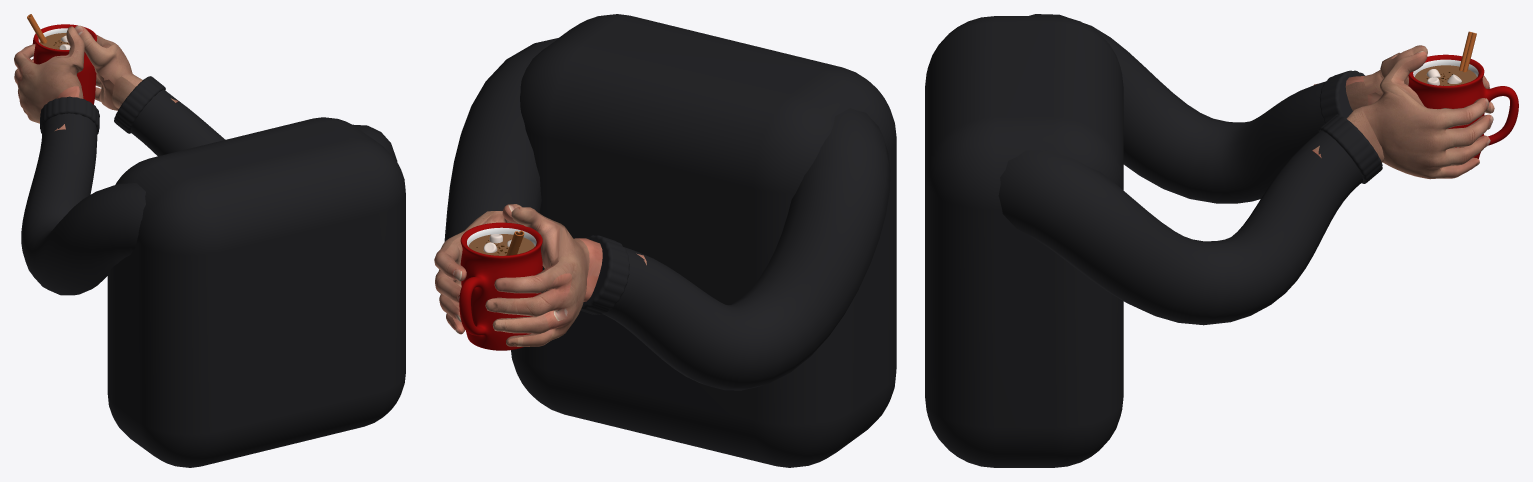
The model's file is hands.glb.
The picture shows the model from 3 angles, left to right: view 1: azimuth 30°, elevation 25°; view 2: azimuth 150°, elevation 25°; view 3: azimuth 270°, elevation 25°; orthographic projection. The views are drawn at different scales.
Parts seen in each view (by area): view 1: H_Chest, H_SleeveL, H_SleeveR, H_HandLMesh, H_HandRMesh, H_CocoaMug, H_CuffR, H_CuffL; view 2: H_Chest, H_SleeveL, H_SleeveR, H_HandLMesh, H_CocoaMug, H_HandRMesh, H_CuffL; view 3: H_Chest, H_SleeveR, H_SleeveL, H_HandRMesh, H_CocoaMug, H_CuffR, H_HandLMesh, H_CuffL.
Part boxes in pixels (x1,y1,x2,y2): H_Chest: (107,117,405,467); H_SleeveL: (21,113,145,295); H_SleeveR: (130,89,397,161); H_HandLMesh: (14,26,84,131); H_HandRMesh: (75,25,178,110); H_CocoaMug: (27,14,96,104); H_CuffR: (114,76,165,133); H_CuffL: (40,96,99,134); H_Chest: (511,14,896,467); H_SleeveL: (602,108,890,390); H_SleeveR: (444,38,558,241); H_HandLMesh: (485,207,646,346); H_CocoaMug: (459,222,542,350); H_HandRMesh: (434,204,522,334); H_CuffL: (580,235,629,314); H_Chest: (925,16,1123,467); H_SleeveR: (998,131,1362,325); H_SleeveL: (1029,14,1324,203); H_HandRMesh: (1312,51,1493,179); H_CocoaMug: (1408,31,1518,169); H_CuffR: (1318,114,1382,183); H_HandLMesh: (1313,45,1494,129); H_CuffL: (1319,70,1364,123).
Size of the model in its own units: 0.5362 by 0.4775 by 0.7184.
Materials: 8 (1 with a texture image).
